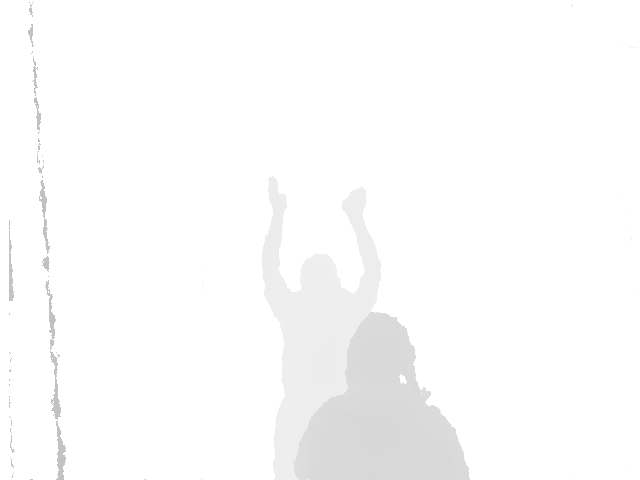hand: (266, 176, 292, 221), (343, 185, 368, 227)
head: (343, 310, 417, 397), (297, 255, 343, 296)
person: (260, 169, 384, 430), (291, 309, 472, 480)
